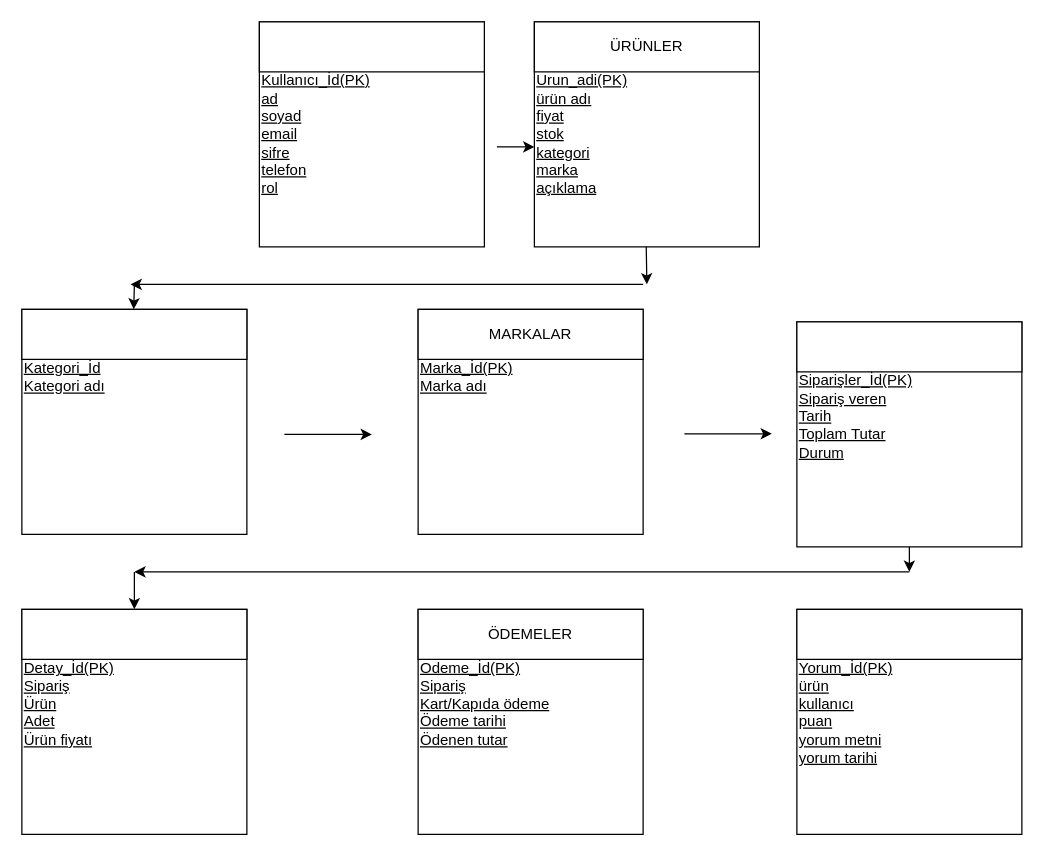
The diagram is 1044 pixels wide and 856 high, and some of its shapes have lost their labels. The shapes that lost their labels are listed below. From the top down, each one's centre as x and y in pixels, then its label:
At point (371, 46): "KULLANICILAR".
At point (134, 333): "KATEGORİLER".
At point (909, 346): "SİPARİŞLER".
At point (134, 633): "SİPARİŞ_DETAY".
At point (909, 633): "YORUMLAR".
